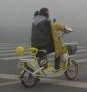person: (29, 7, 63, 73)
